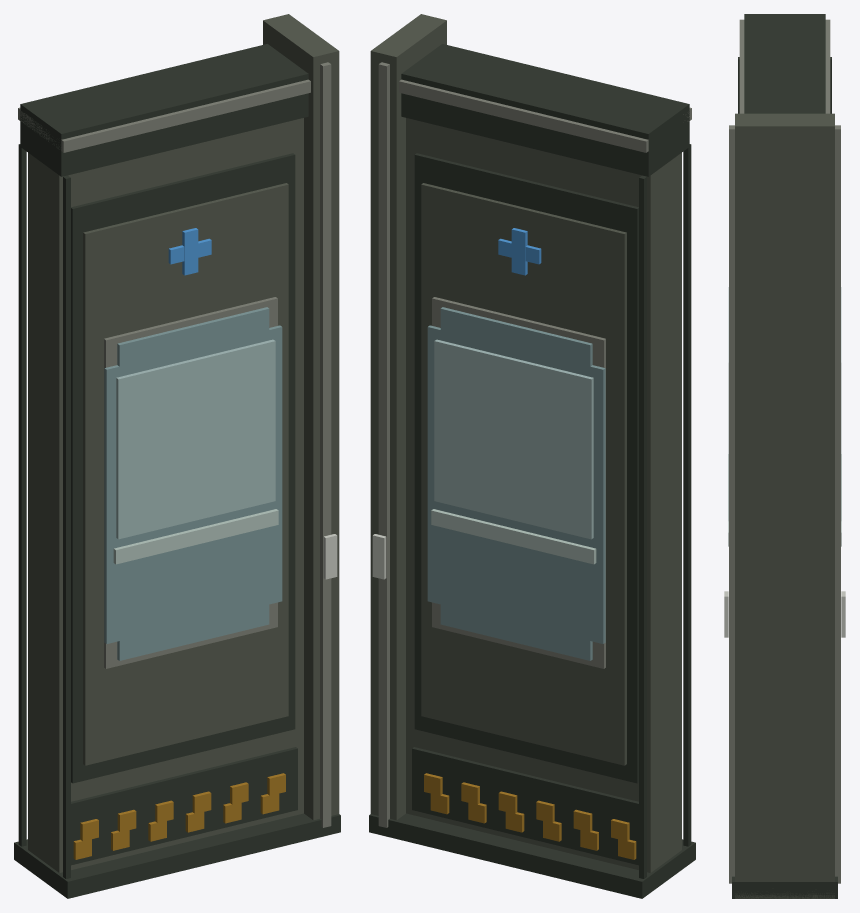
Rendered from CMU3DPairedHybrisaMedicalGlass.glb.
The picture shows the model from 3 angles, left to right: view 1: azimuth 30°, elevation 25°; view 2: azimuth 150°, elevation 25°; view 3: azimuth 270°, elevation 25°; orthographic projection.
Parts seen in each view (by area): view 1: inner face panel, single closed door leaf, pale upper reflection, chamfered window center, outer door jamb, leaf recessed face, continuous top track, meeting edge seal (×2), lower hazard band, outer jamb highlight, threshold, top track lip (+6 smaller); view 2: inner face panel back, single closed door leaf, pale upper reflection back, chamfered window center back, outer door jamb, leaf recessed face back, continuous top track, meeting edge seal (×2), lower hazard band back, outer jamb highlight, threshold, chamfered window upper shoulder back (+6 smaller); view 3: outer door jamb, outer jamb highlight (×2), continuous top track, threshold, top track lip.
Part boxes in pixels (box(x1,y1,x2,y2)): inner face panel: box(83, 183, 288, 765); single closed door leaf: box(28, 118, 303, 872); pale upper reflection: box(116, 339, 275, 539); chamfered window center: box(104, 325, 282, 643); outer door jamb: box(263, 14, 339, 820); leaf recessed face: box(71, 153, 295, 783); continuous top track: box(20, 44, 308, 176); meeting edge seal (×2): box(18, 144, 70, 878); lower hazard band: box(71, 747, 297, 865); outer jamb highlight: box(320, 62, 331, 827); threshold: box(14, 813, 340, 898); top track lip: box(18, 79, 310, 152); inner face panel back: box(421, 183, 626, 765); single closed door leaf: box(406, 118, 681, 872); pale upper reflection back: box(434, 339, 593, 539); chamfered window center back: box(427, 325, 605, 643); outer door jamb: box(370, 14, 446, 820); leaf recessed face back: box(414, 153, 638, 783); continuous top track: box(401, 44, 689, 176); meeting edge seal (×2): box(639, 144, 691, 878); lower hazard band back: box(412, 747, 638, 865); outer jamb highlight: box(378, 62, 389, 827); threshold: box(369, 813, 695, 898); chamfered window upper shoulder back: box(440, 307, 592, 366); outer door jamb: box(735, 113, 834, 898); outer jamb highlight (×2): box(729, 125, 840, 883); continuous top track: box(744, 14, 825, 113); threshold: box(732, 876, 837, 898); top track lip: box(739, 19, 830, 113).
Bounding box in the file's own units: 1 × 2.73 × 0.388.
